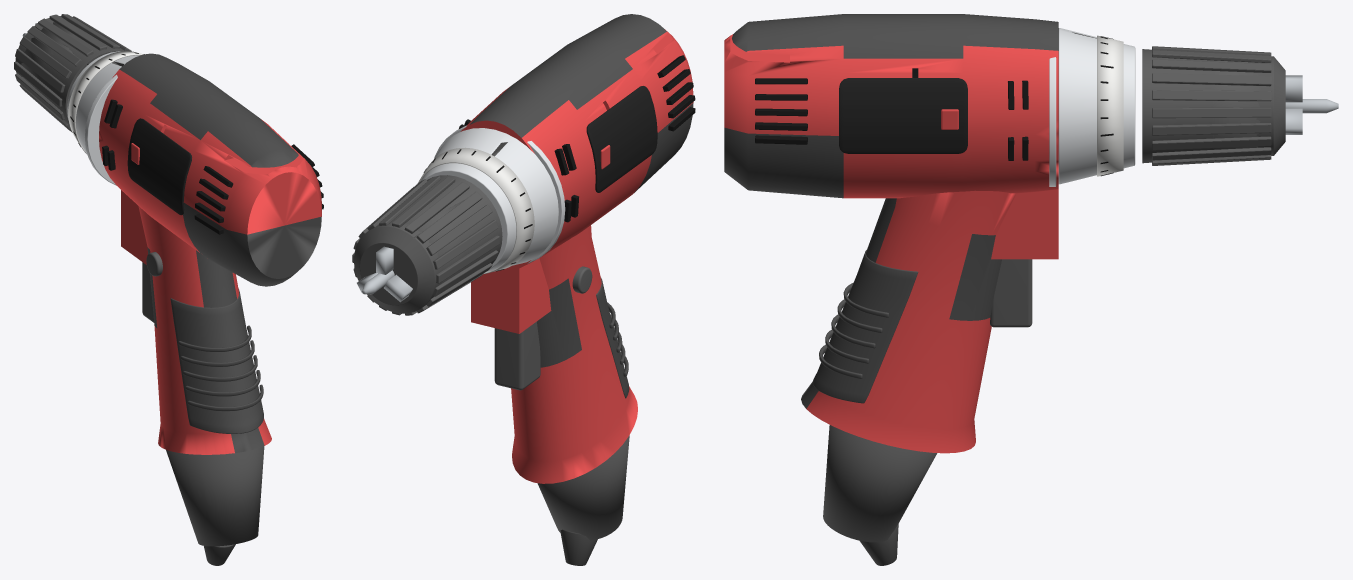
The model's file is ElectricScrewdriver_V3.fbx.
3 views of the same model, side by side, from view 1: azimuth 30°, elevation 25°; view 2: azimuth 150°, elevation 25°; view 3: azimuth 270°, elevation 25° (orthographic). The views are drawn at different scales.
Visible parts, largest first — view 1: Body_Housing, Detail_Grip_BackPad, Base_Corded_StrainRelief, Detail_Chuck_Grip_Ribs, Detail_Badge_L, Torque_Collar, Detail_Grip_Ridges, Chuck_Nose_Assembly, Detail_Vents_Rear, Detail_Torque_Scale_Band, Detail_Chuck_Sleeve_Core, Detail_Vents_Front (+2 smaller); view 2: Body_Housing, Torque_Collar, Detail_Chuck_Grip_Ribs, Chuck_Nose_Assembly, Base_Corded_StrainRelief, Detail_Badge_L, Detail_Torque_Scale_Band, Trigger_Switch, Detail_Vents_Rear, Detail_Chuck_Sleeve_Core, Detail_Grip_BackPad, Detail_Cord_Boot_Tip (+5 smaller); view 3: Body_Housing, Detail_Chuck_Grip_Ribs, Detail_Badge_R, Base_Corded_StrainRelief, Torque_Collar, Detail_Grip_BackPad, Chuck_Nose_Assembly, Detail_Torque_Scale_Band, Trigger_Switch, Detail_Vents_Rear, Detail_Grip_Ridges, Detail_Chuck_Sleeve_Core (+1 smaller).
Boxes of the visible parts, x1,y1,x2,y2 form: Body_Housing: (99, 53, 321, 454); Detail_Grip_BackPad: (170, 288, 263, 433); Base_Corded_StrainRelief: (166, 446, 264, 546); Detail_Chuck_Grip_Ribs: (14, 14, 131, 132); Detail_Badge_L: (127, 118, 191, 215); Torque_Collar: (67, 51, 139, 185); Detail_Grip_Ridges: (178, 325, 263, 411); Chuck_Nose_Assembly: (15, 16, 124, 125); Detail_Vents_Rear: (194, 144, 323, 234); Detail_Torque_Scale_Band: (68, 51, 142, 153); Detail_Chuck_Sleeve_Core: (21, 20, 86, 92); Detail_Vents_Front: (102, 99, 122, 170); Body_Housing: (460, 14, 693, 483); Torque_Collar: (421, 125, 565, 271); Detail_Chuck_Grip_Ribs: (352, 176, 499, 315); Chuck_Nose_Assembly: (354, 175, 502, 313); Base_Corded_StrainRelief: (537, 435, 629, 540); Detail_Badge_L: (586, 86, 657, 192); Detail_Torque_Scale_Band: (417, 147, 534, 274); Trigger_Switch: (494, 321, 540, 390); Detail_Vents_Rear: (657, 55, 695, 131); Detail_Chuck_Sleeve_Core: (392, 200, 467, 283); Detail_Grip_BackPad: (596, 278, 629, 398); Detail_Cord_Boot_Tip: (560, 529, 597, 565); Body_Housing: (724, 14, 1058, 453); Detail_Chuck_Grip_Ribs: (1152, 46, 1271, 165); Detail_Badge_R: (839, 78, 967, 153); Base_Corded_StrainRelief: (823, 425, 937, 542); Torque_Collar: (1049, 28, 1135, 186); Detail_Grip_BackPad: (812, 250, 918, 403); Chuck_Nose_Assembly: (1142, 49, 1285, 163); Detail_Torque_Scale_Band: (1097, 35, 1123, 176); Trigger_Switch: (990, 259, 1032, 327); Detail_Vents_Rear: (755, 78, 807, 144); Detail_Grip_Ridges: (819, 282, 888, 378); Detail_Chuck_Sleeve_Core: (1205, 60, 1260, 149).
Size of the model in its own units: 0.068 by 0.2515 by 0.2572.
